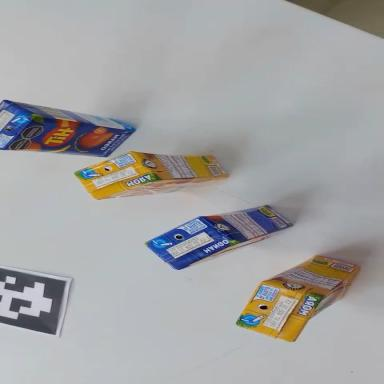HIT-MANGO: (144, 188, 293, 278), (0, 99, 136, 173)
HIT-MORA: (228, 226, 367, 362), (75, 144, 230, 200)
cara_F: (2, 112, 134, 168), (285, 266, 369, 341), (177, 224, 293, 270), (98, 176, 226, 199)
